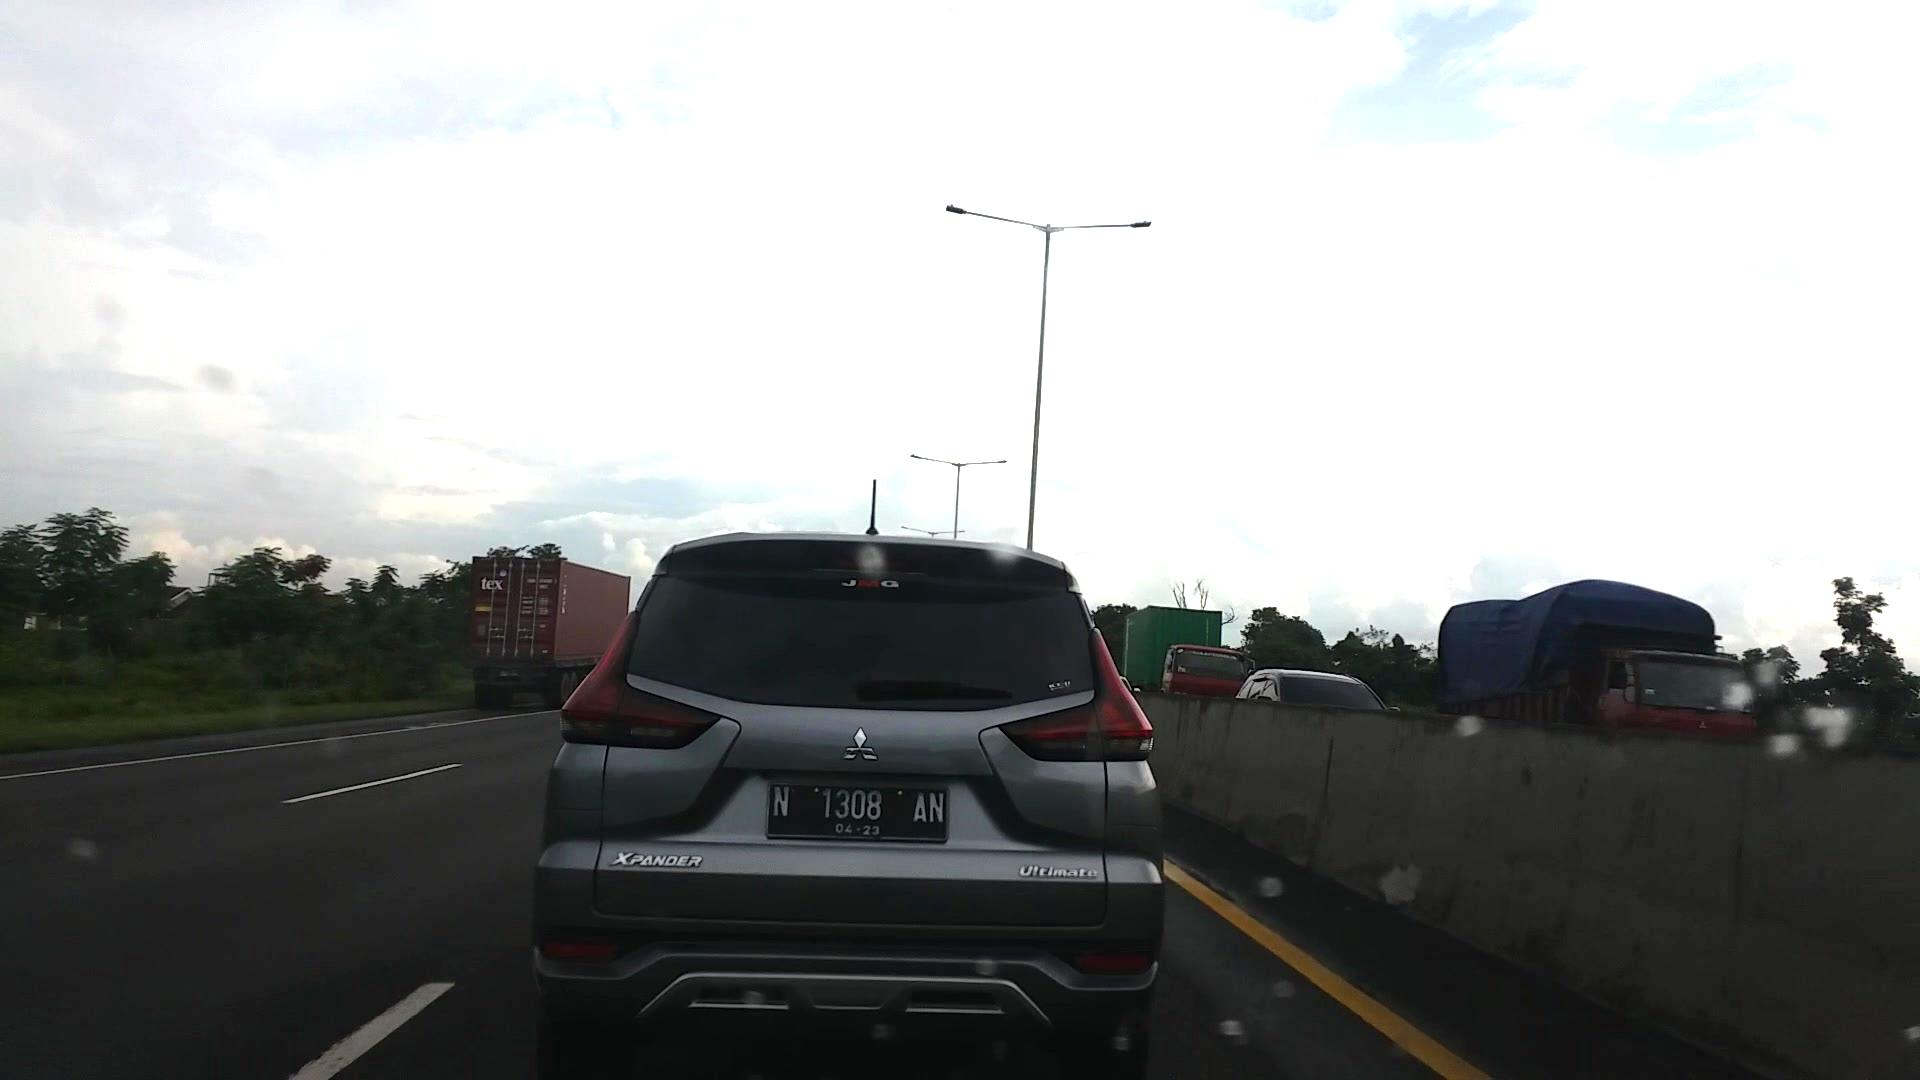plate_positive: (767, 781, 945, 843)
